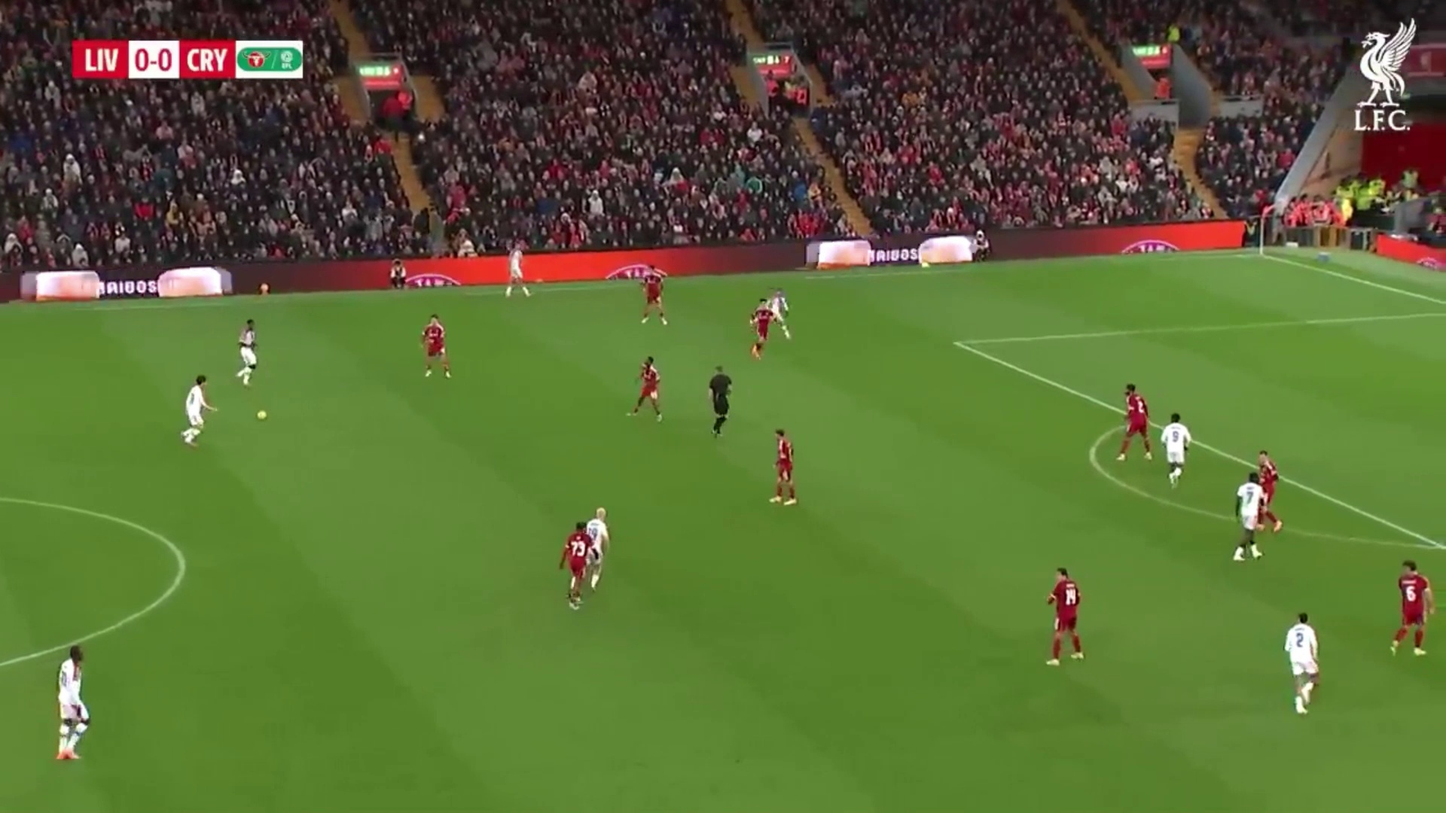player: (55, 647, 91, 764), (1283, 611, 1322, 715), (1231, 470, 1274, 562), (1047, 569, 1087, 665), (1392, 562, 1432, 658), (577, 506, 611, 602), (562, 521, 597, 609), (1118, 384, 1152, 459), (1160, 410, 1192, 484), (182, 374, 214, 448), (628, 355, 665, 419), (585, 505, 611, 596), (420, 315, 453, 380), (771, 428, 797, 507), (640, 268, 672, 327), (748, 295, 777, 360), (708, 367, 732, 437), (587, 506, 611, 571), (235, 319, 257, 386), (238, 317, 259, 378)
